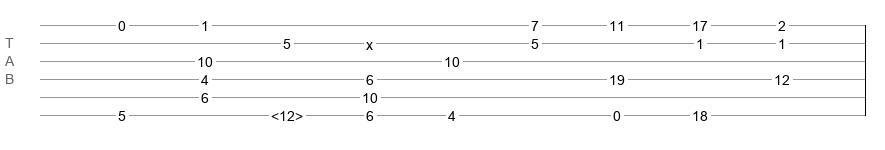0: (118, 18, 126, 28), (613, 108, 621, 118)
1: (201, 18, 209, 28), (696, 36, 704, 46), (778, 36, 786, 46)
10: (197, 54, 213, 64), (362, 90, 378, 100), (444, 54, 460, 64)
11: (609, 18, 625, 28)
12: (774, 72, 790, 82)
17: (692, 18, 708, 28)
18: (692, 108, 708, 118)
19: (609, 72, 625, 82)
2: (778, 18, 786, 28)
4: (201, 72, 209, 82), (448, 108, 456, 118)
5: (118, 108, 126, 118), (283, 36, 291, 46), (531, 36, 539, 46)
6: (201, 90, 209, 100), (366, 72, 374, 82), (366, 108, 374, 118)
7: (531, 18, 539, 28)
harmonic: (271, 108, 303, 118)
x: (366, 37, 373, 45)
